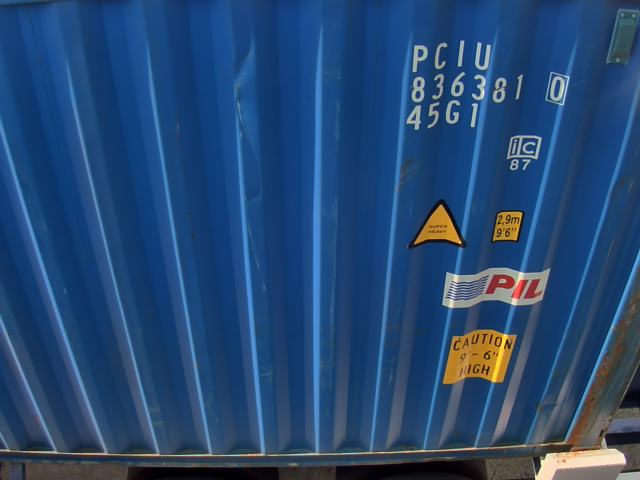container_no_door: (5, 7, 630, 457)
